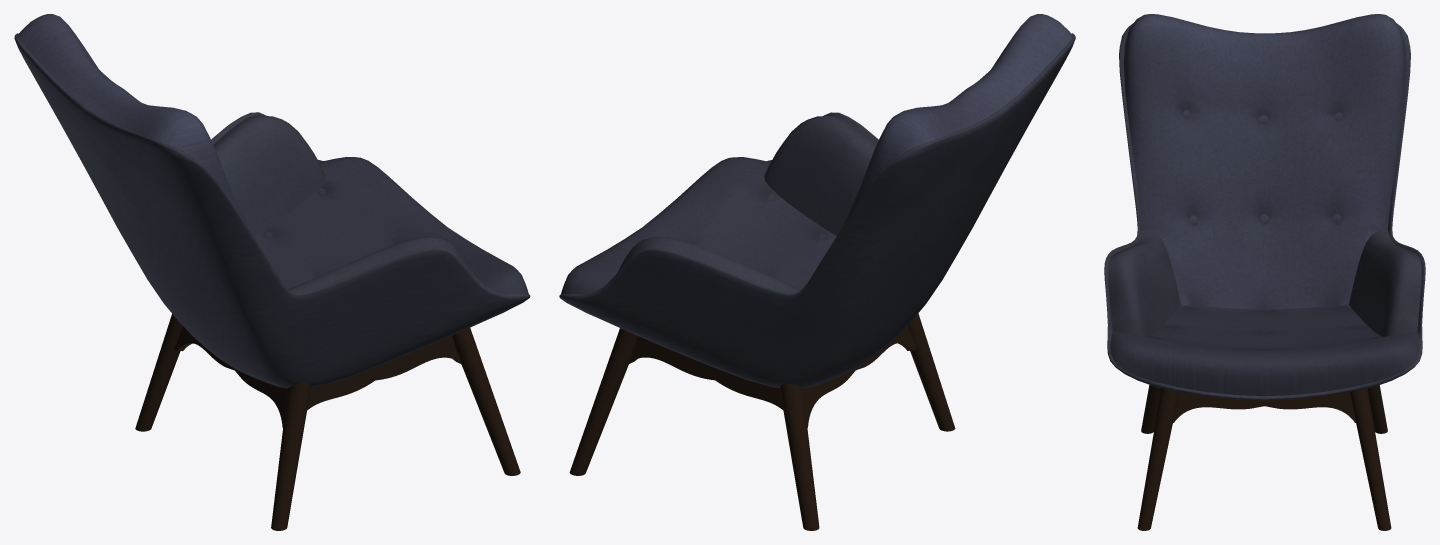
File: HisMajestysThrone.obj
The picture shows the model from 3 angles, left to right: view 1: azimuth 30°, elevation 25°; view 2: azimuth 150°, elevation 25°; view 3: azimuth 270°, elevation 25°; orthographic projection. The views are drawn at different scales.
Visible parts, largest first — view 1: Mesh7 Subsurf_12_1 Group4 Group3 Component1 Model, Mesh10 Subsurf_14_1 Group3 Component1 Model, Mesh11 Subsurf_11_1 Group3 Component1 Model, Mesh9 Subsurf_13_2 Group6 Group_30_1 Group3 Component1 Model, Mesh2 Group_7_1 Group1 Component1 Model, Mesh3 Component_1_1 Group1 Component1 Model, Mesh1 Component_2_1 Group1 Component1 Model, Mesh8 Subsurf_13_1 Group5 Group_32_1 Group3 Component1 Model, Mesh6 Component_1_2 Group2 Component1 Model; view 2: Mesh7 Subsurf_12_1 Group4 Group3 Component1 Model, Mesh10 Subsurf_14_1 Group3 Component1 Model, Mesh11 Subsurf_11_1 Group3 Component1 Model, Mesh8 Subsurf_13_1 Group5 Group_32_1 Group3 Component1 Model, Mesh5 Group_7_2 Group2 Component1 Model, Mesh6 Component_1_2 Group2 Component1 Model, Mesh4 Component_2_2 Group2 Component1 Model, Mesh9 Subsurf_13_2 Group6 Group_30_1 Group3 Component1 Model, Mesh3 Component_1_1 Group1 Component1 Model; view 3: Mesh11 Subsurf_11_1 Group3 Component1 Model, Mesh10 Subsurf_14_1 Group3 Component1 Model, Mesh8 Subsurf_13_1 Group5 Group_32_1 Group3 Component1 Model, Mesh9 Subsurf_13_2 Group6 Group_30_1 Group3 Component1 Model, Mesh7 Subsurf_12_1 Group4 Group3 Component1 Model, Mesh1 Component_2_1 Group1 Component1 Model, Mesh4 Component_2_2 Group2 Component1 Model, Mesh2 Group_7_1 Group1 Component1 Model, Mesh5 Group_7_2 Group2 Component1 Model, Mesh3 Component_1_1 Group1 Component1 Model, Mesh6 Component_1_2 Group2 Component1 Model.
Part boxes in pixels (x1=…): Mesh7 Subsurf_12_1 Group4 Group3 Component1 Model: x1=14, y1=33, x2=530, y2=388; Mesh10 Subsurf_14_1 Group3 Component1 Model: x1=253, y1=157, x2=528, y2=294; Mesh11 Subsurf_11_1 Group3 Component1 Model: x1=17, y1=14, x2=248, y2=228; Mesh9 Subsurf_13_2 Group6 Group_30_1 Group3 Component1 Model: x1=213, y1=115, x2=325, y2=235; Mesh2 Group_7_1 Group1 Component1 Model: x1=234, y1=335, x2=460, y2=427; Mesh3 Component_1_1 Group1 Component1 Model: x1=271, y1=381, x2=310, y2=530; Mesh1 Component_2_1 Group1 Component1 Model: x1=452, y1=328, x2=520, y2=475; Mesh8 Subsurf_13_1 Group5 Group_32_1 Group3 Component1 Model: x1=288, y1=236, x2=471, y2=293; Mesh6 Component_1_2 Group2 Component1 Model: x1=135, y1=314, x2=182, y2=431; Mesh7 Subsurf_12_1 Group4 Group3 Component1 Model: x1=559, y1=33, x2=1075, y2=388; Mesh10 Subsurf_14_1 Group3 Component1 Model: x1=561, y1=157, x2=836, y2=294; Mesh11 Subsurf_11_1 Group3 Component1 Model: x1=841, y1=14, x2=1072, y2=228; Mesh8 Subsurf_13_1 Group5 Group_32_1 Group3 Component1 Model: x1=764, y1=115, x2=876, y2=236; Mesh5 Group_7_2 Group2 Component1 Model: x1=629, y1=336, x2=855, y2=427; Mesh6 Component_1_2 Group2 Component1 Model: x1=779, y1=383, x2=819, y2=530; Mesh4 Component_2_2 Group2 Component1 Model: x1=569, y1=328, x2=637, y2=475; Mesh9 Subsurf_13_2 Group6 Group_30_1 Group3 Component1 Model: x1=618, y1=236, x2=801, y2=293; Mesh3 Component_1_1 Group1 Component1 Model: x1=907, y1=313, x2=955, y2=431; Mesh11 Subsurf_11_1 Group3 Component1 Model: x1=1123, y1=14, x2=1406, y2=309; Mesh10 Subsurf_14_1 Group3 Component1 Model: x1=1110, y1=304, x2=1419, y2=396; Mesh8 Subsurf_13_1 Group5 Group_32_1 Group3 Component1 Model: x1=1108, y1=231, x2=1180, y2=336; Mesh9 Subsurf_13_2 Group6 Group_30_1 Group3 Component1 Model: x1=1349, y1=231, x2=1421, y2=336; Mesh7 Subsurf_12_1 Group4 Group3 Component1 Model: x1=1104, y1=23, x2=1425, y2=400; Mesh1 Component_2_1 Group1 Component1 Model: x1=1137, y1=388, x2=1179, y2=530; Mesh4 Component_2_2 Group2 Component1 Model: x1=1349, y1=388, x2=1391, y2=530; Mesh2 Group_7_1 Group1 Component1 Model: x1=1173, y1=391, x2=1264, y2=422; Mesh5 Group_7_2 Group2 Component1 Model: x1=1264, y1=392, x2=1355, y2=422; Mesh3 Component_1_1 Group1 Component1 Model: x1=1141, y1=385, x2=1161, y2=433; Mesh6 Component_1_2 Group2 Component1 Model: x1=1367, y1=385, x2=1387, y2=433.
Size of the model in its own units: 0.7844 by 0.8778 by 0.6824.
4 materials, 3 textured.
